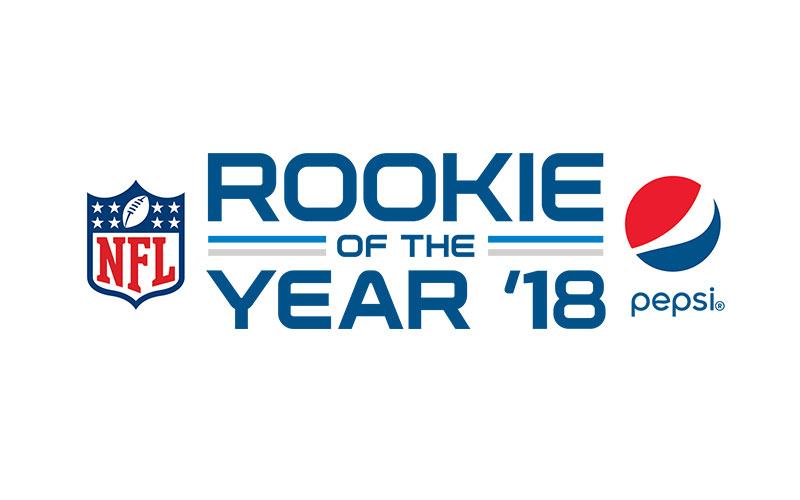pepsi: (621, 175, 719, 271), (621, 175, 719, 268), (621, 177, 719, 268)
